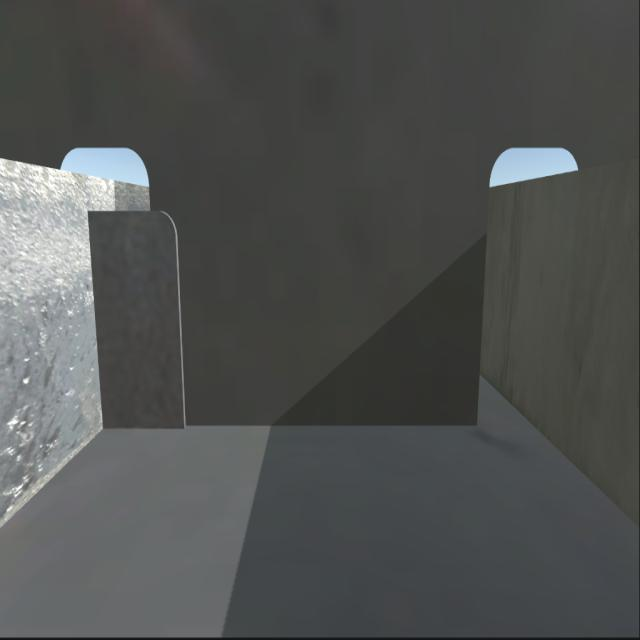fillet_yong_jeop_jang: (101, 419, 482, 437)
longi_yong_jeop_jang: (94, 211, 104, 429)
plate_CP05: (100, 215, 184, 424)
